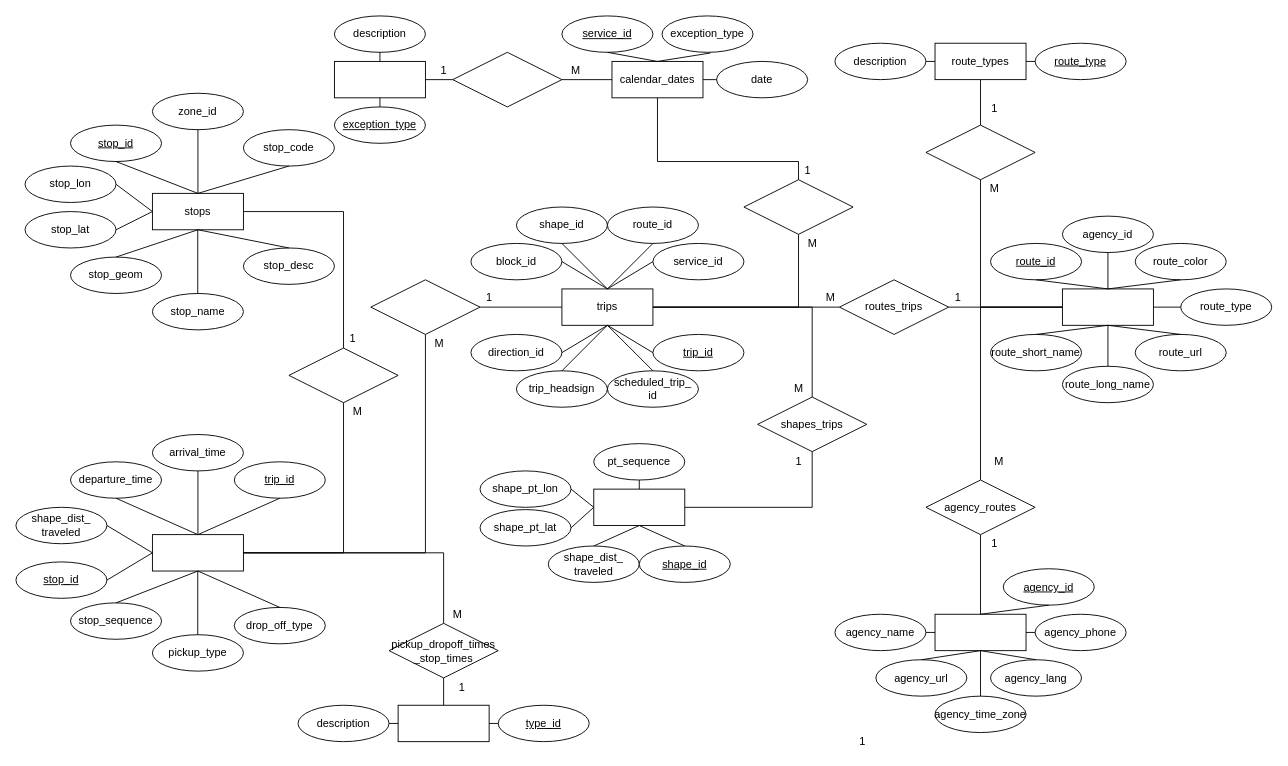
Some shapes in this 1288 by 766 pixel diagram are drawn without their labels. The shapes that lost their labels are listed below. From the top down, each one's centre as x and y in pixels, then its label:
At point (379, 79): "exception_types".
At point (507, 79): "exception_types_ calendar_dates".
At point (980, 152): "route_type_routes".
At point (798, 206): "calendar_dates_trips".
At point (425, 306): "trips_stop_times".
At point (1107, 306): "routes".
At point (343, 375): "stops_stop_times".
At point (639, 507): "shapes".
At point (197, 552): "stop_times".
At point (980, 632): "agency".
At point (443, 723): "pickup_dropoff_ types".
